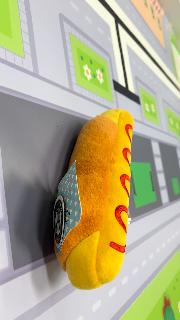hotdog: (52, 108, 136, 290)
